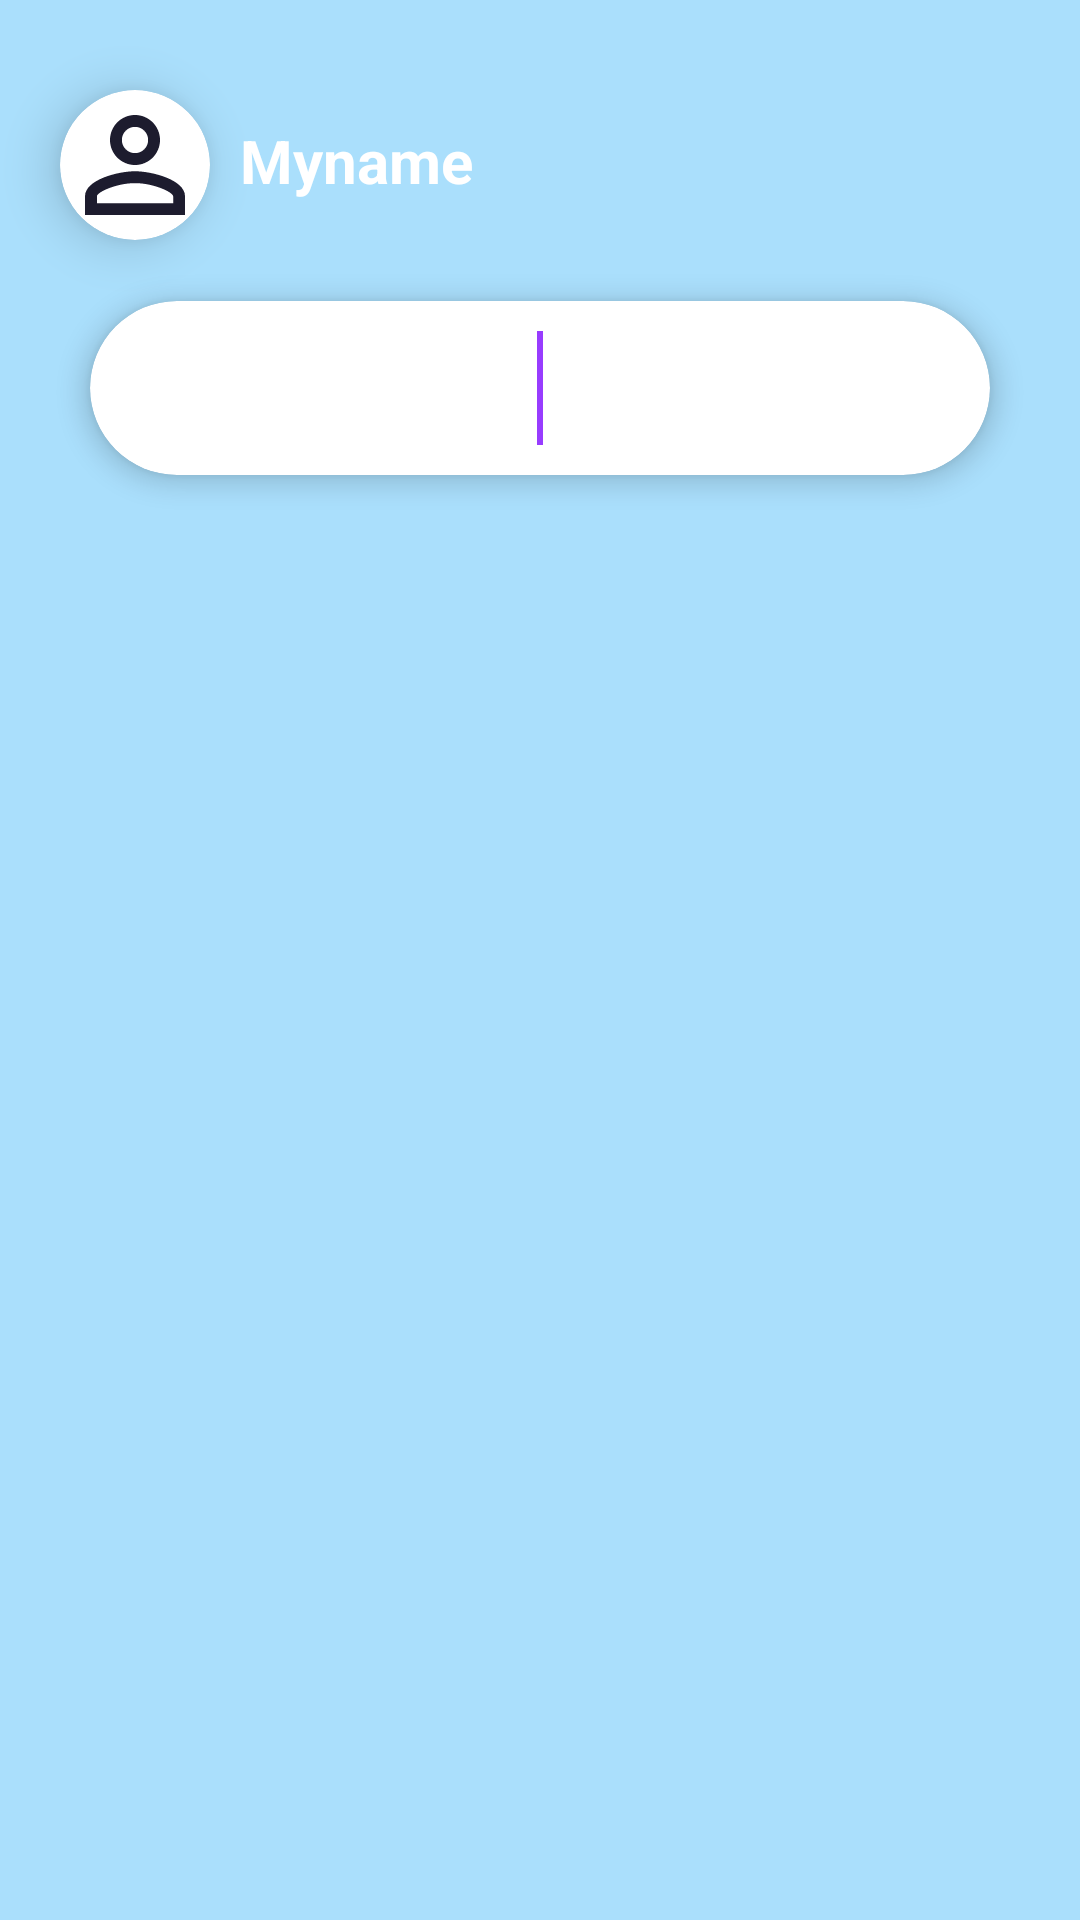

Locate icon controls on the screen. Image size 1080px×1920px, boxes as (x1, y1, x2, y2).
people: (60, 90, 210, 240)
